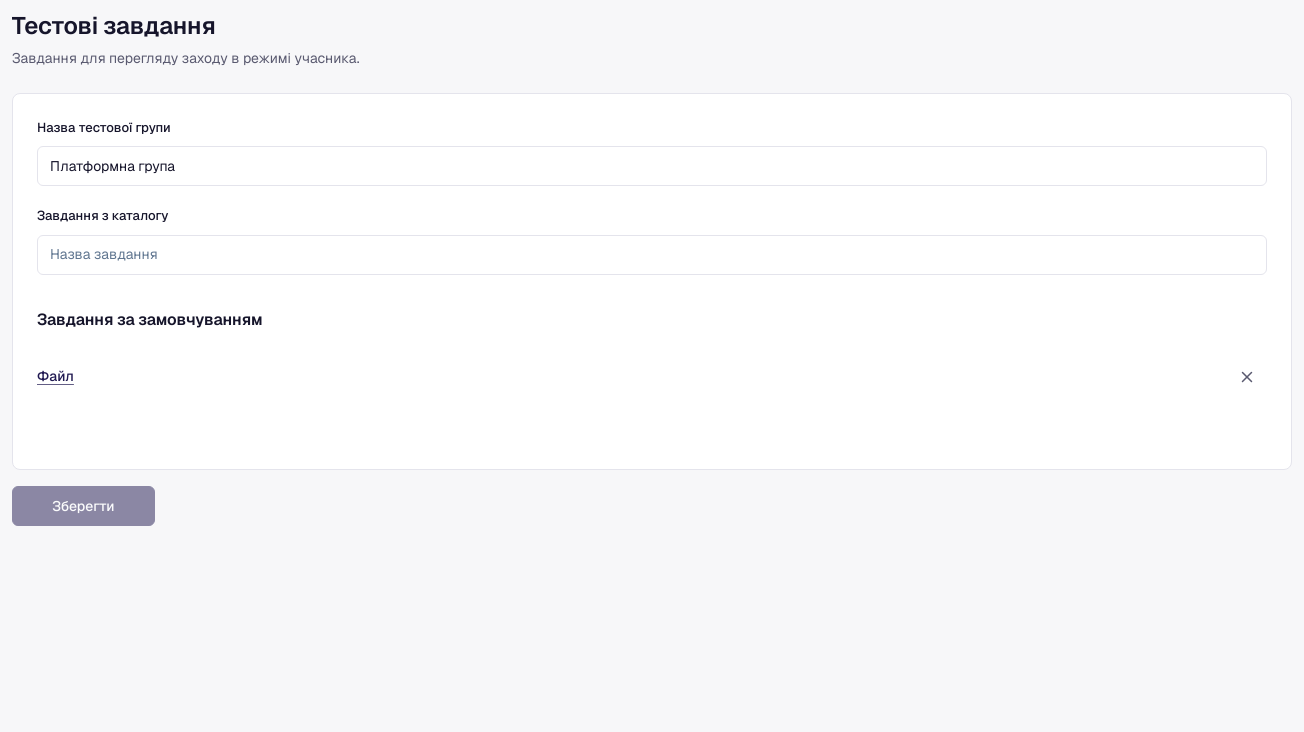
Test: keeps keyboard control: arrows, Enter and Space toggle, Escape and outside click close
Focus the dropdown: point(652, 255) 37,235 -> 1267,275
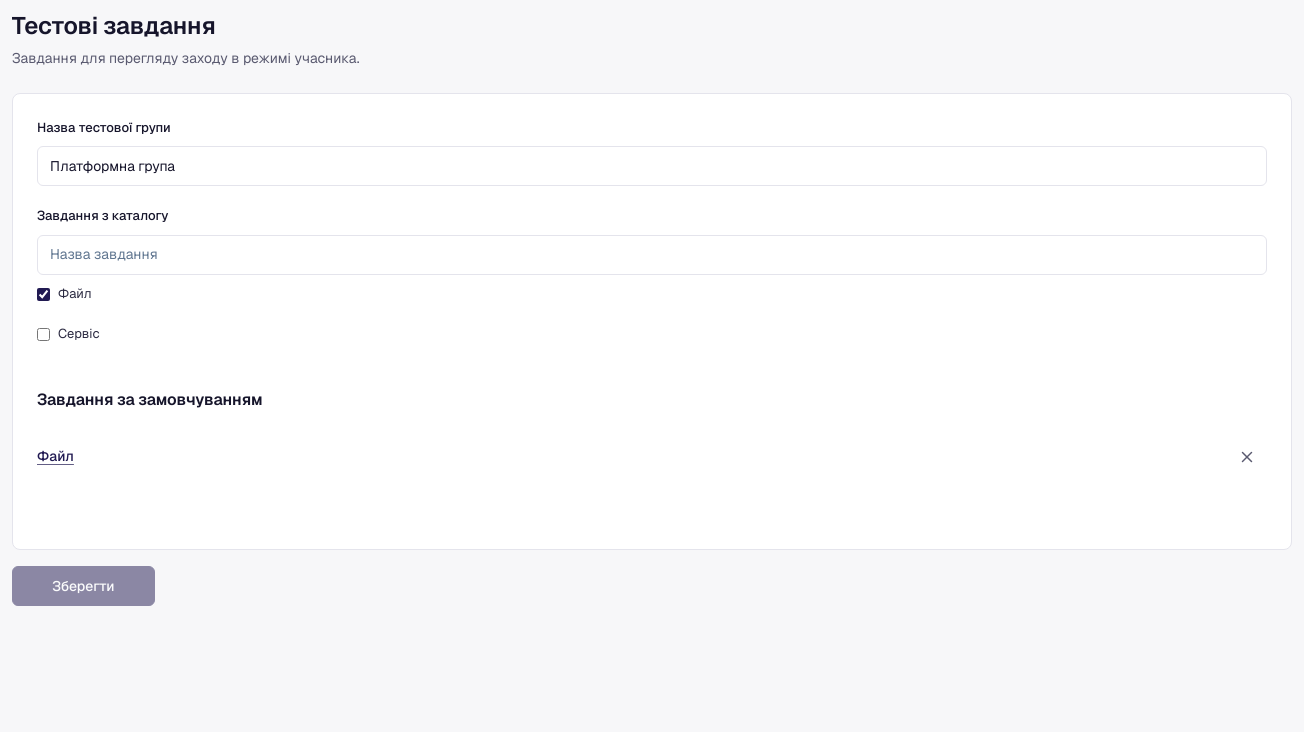
Expected: the list "Файл Сервіс" is shown, 37,286 -> 100,342
Expected: the checkbox labelled "Сервіс" is shown, 37,328 -> 50,341
Press ArrowDown in the dropdown, box 37,235 -> 1267,275
Press ArrowDown in the dropdown, box 37,235 -> 1267,275
Press Enter in the dropdown, box 37,235 -> 1267,275
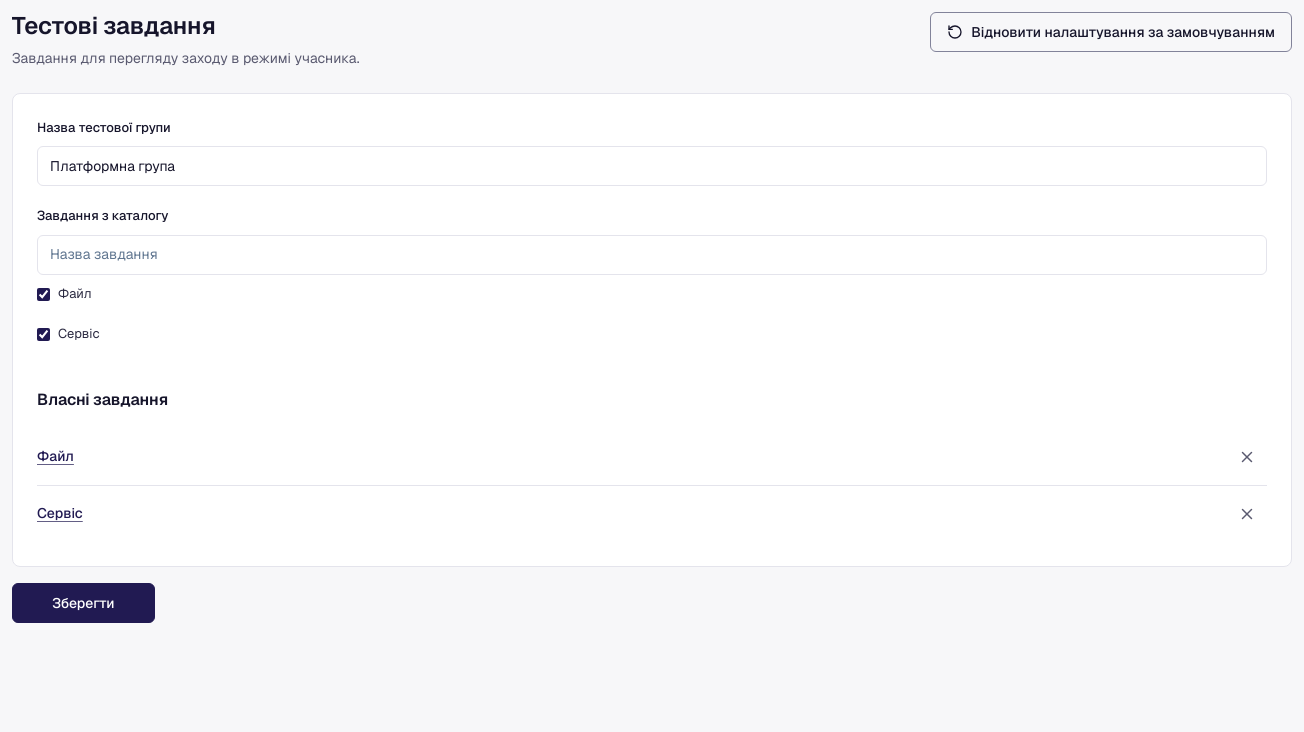
Expected: the button named "Прибрати «Сервіс»" is shown, 1227,494 -> 1267,534
Press Space in the dropdown, box 37,235 -> 1267,275
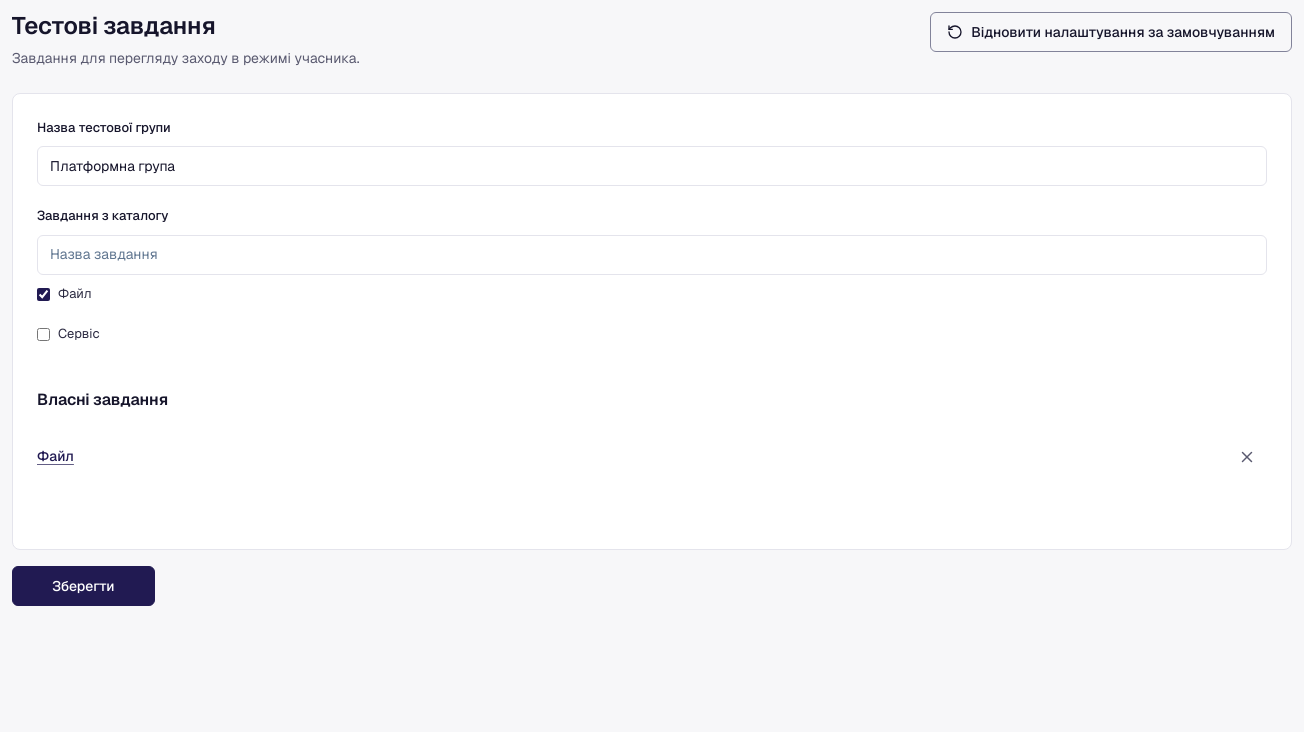
Press Escape in the dropdown, box 37,235 -> 1267,275
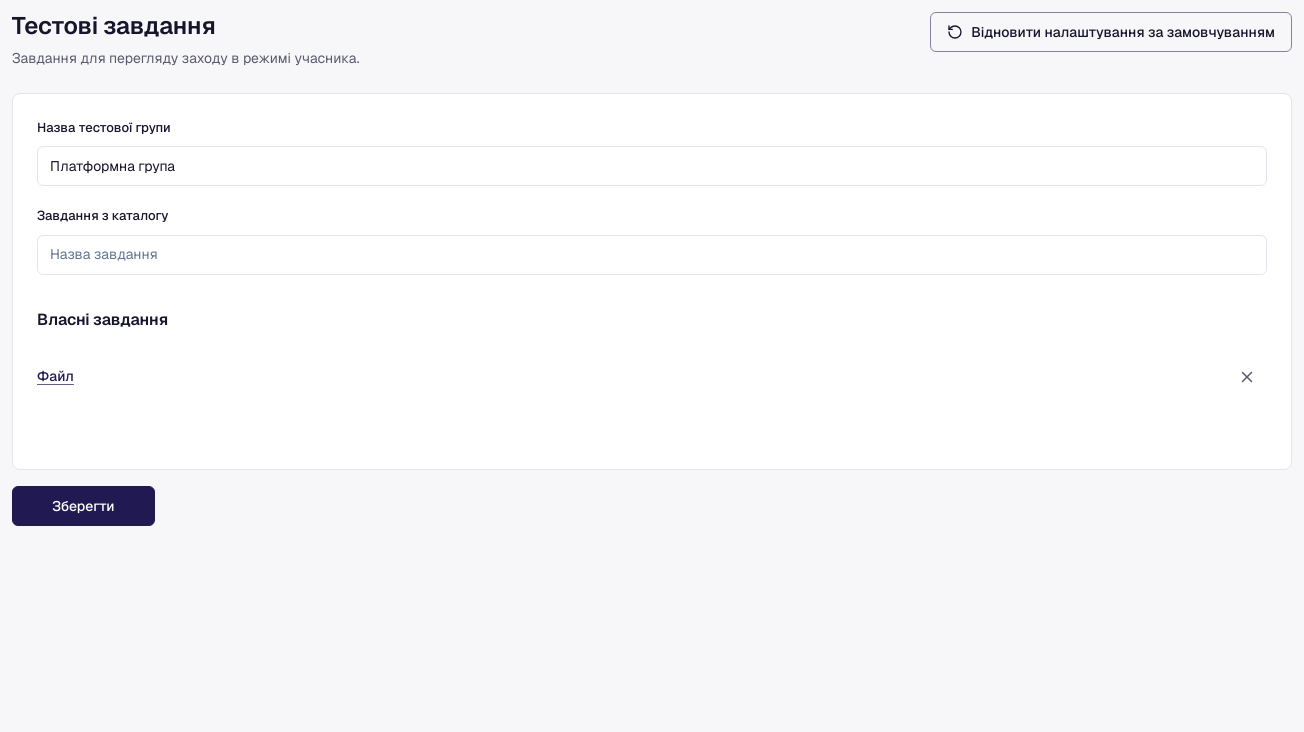
Expected: the list "Файл Сервіс" is gone
Focus the dropdown: point(652, 255) 37,235 -> 1267,275
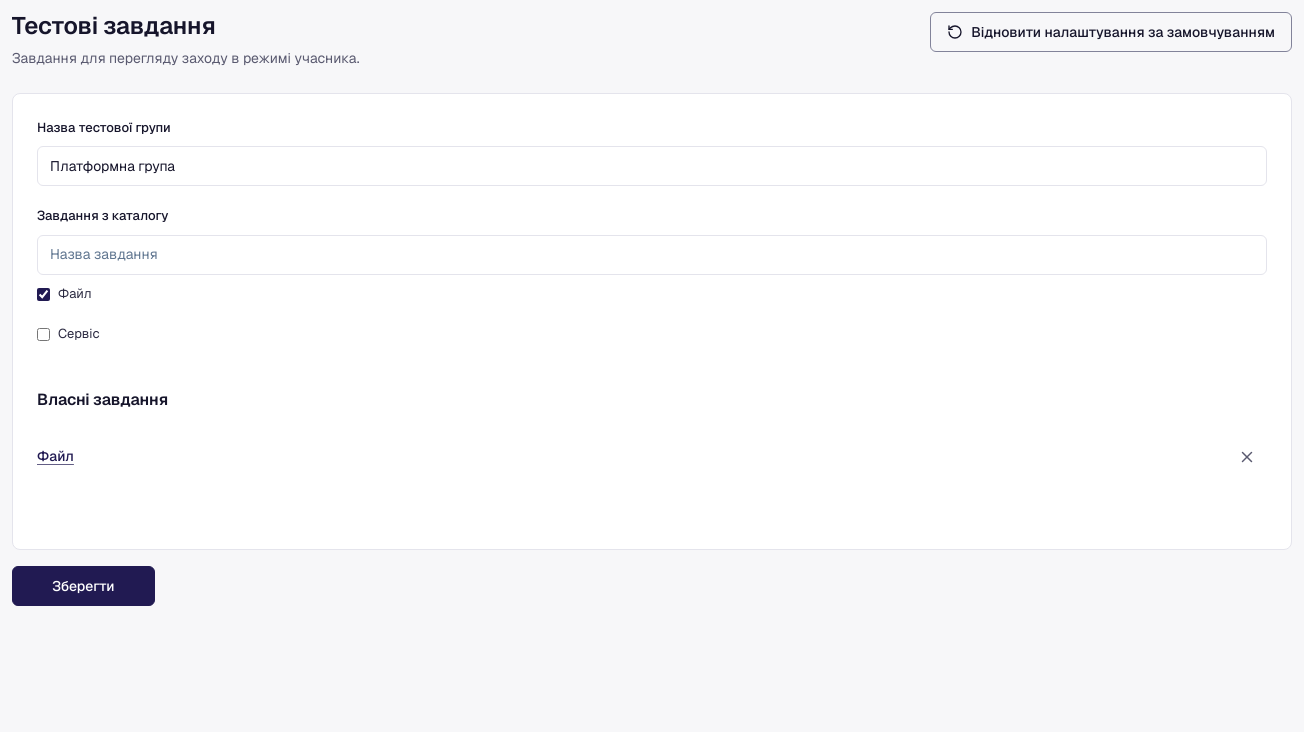
Expected: the list "Файл Сервіс" is shown, 37,286 -> 100,342
Press the mouse on the element that starts with "Тестові завдання": point(652, 372) 12,12 -> 1292,731
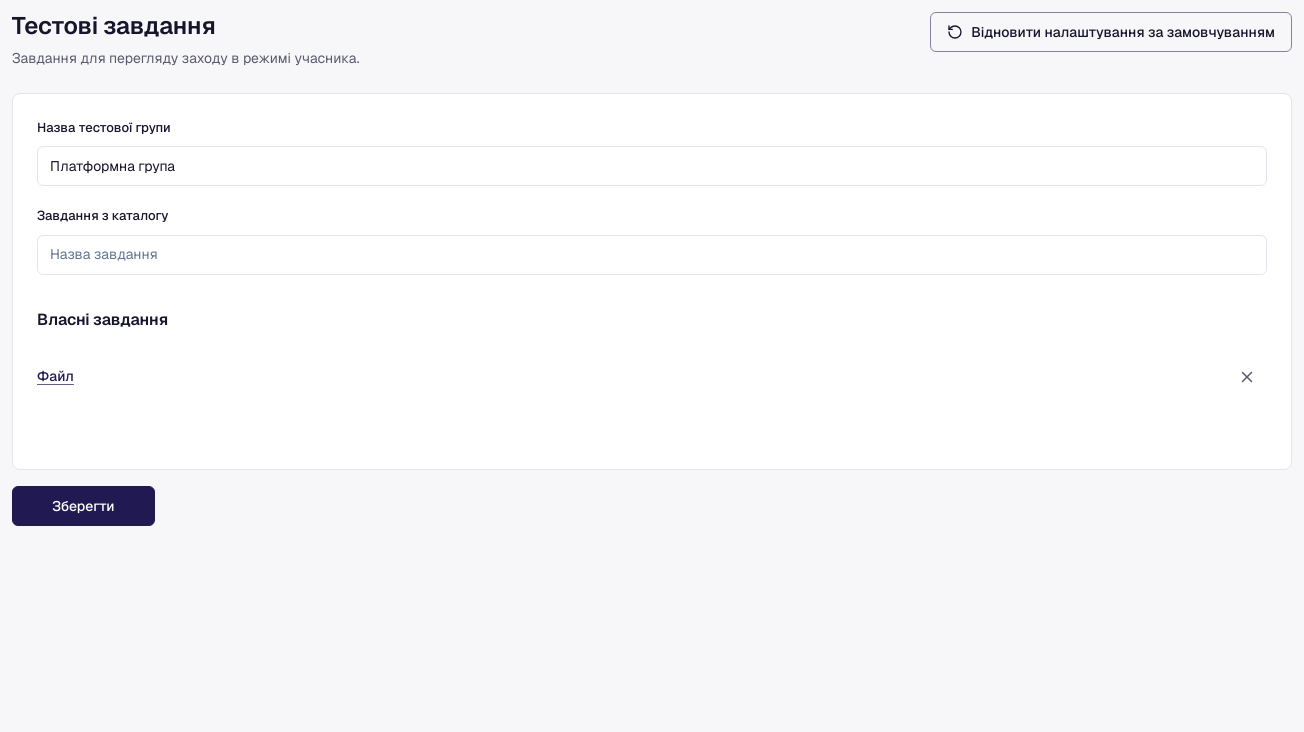
Expected: the list "Файл Сервіс" is gone
